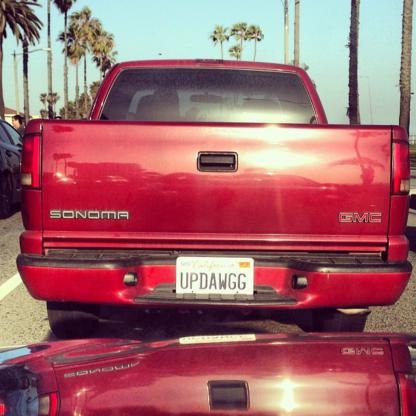Truck: (17, 58, 412, 338)
